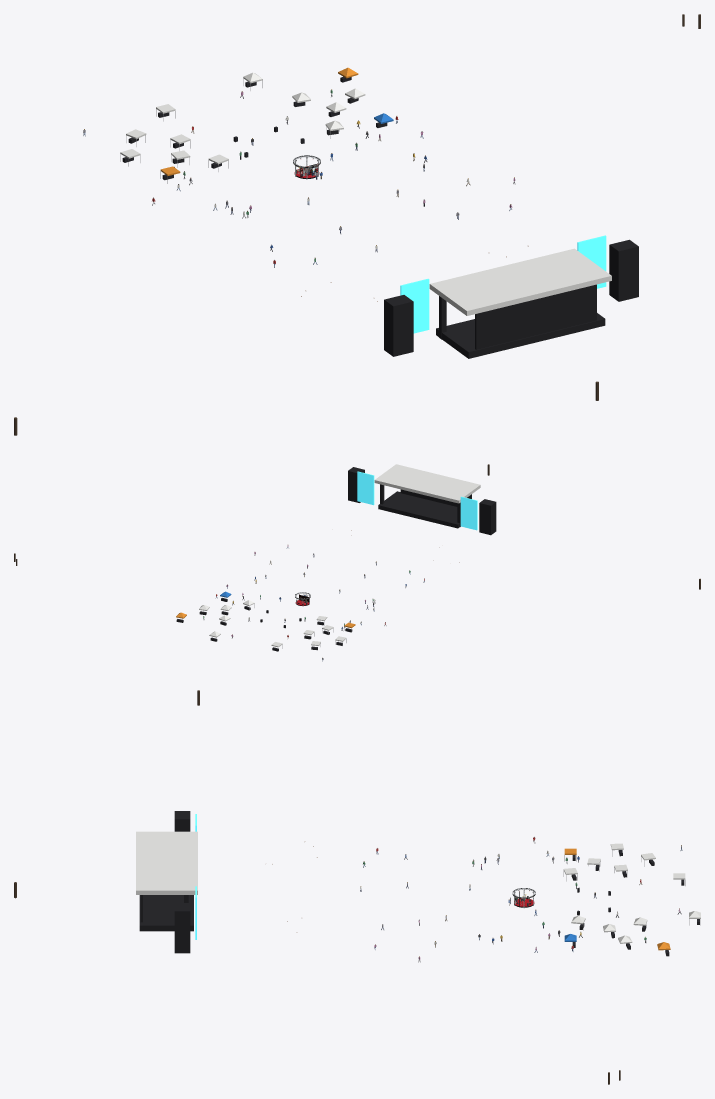
Rendered from Stand_ROCKnacional.glb.
3 views of the same model, one above another, from view 1: azimuth 30°, elevation 25°; view 2: azimuth 150°, elevation 25°; view 3: azimuth 270°, elevation 25° (orthographic). The views are drawn at different scales.
Visible parts, largest first — view 1: Escenario_Techo, Escenario_Fondo, Escenario_Base, Escenario_Torre_PA_-28, Escenario_Torre_PA_28, Escenario_Cartel_-22, Escenario_Cartel_22; view 2: Escenario_Techo, Escenario_Base, Escenario_Torre_PA_-28, Escenario_Cartel_22, Escenario_Cartel_-22, Escenario_Torre_PA_28; view 3: Escenario_Techo, Escenario_Base, Escenario_Torre_PA_28.
Part boxes in pixels (x1,y1,x2,y2): Escenario_Techo: (429,248,611,315); Escenario_Fondo: (475,284,596,349); Escenario_Base: (436,313,605,358); Escenario_Torre_PA_-28: (384,295,413,356); Escenario_Torre_PA_28: (609,239,638,301); Escenario_Cartel_-22: (400,278,429,333); Escenario_Cartel_22: (577,235,606,288); Escenario_Techo: (374,464,480,503); Escenario_Base: (378,491,459,528); Escenario_Torre_PA_-28: (479,499,496,535); Escenario_Cartel_22: (357,471,374,505); Escenario_Cartel_-22: (460,496,477,530); Escenario_Torre_PA_28: (348,467,364,502); Escenario_Techo: (136,831,197,894); Escenario_Base: (139,895,193,931); Escenario_Torre_PA_28: (174,903,190,953).
Size of what is drawn, in the model's own units: 232 by 13.76 by 177.
111 materials, 3 textured.
